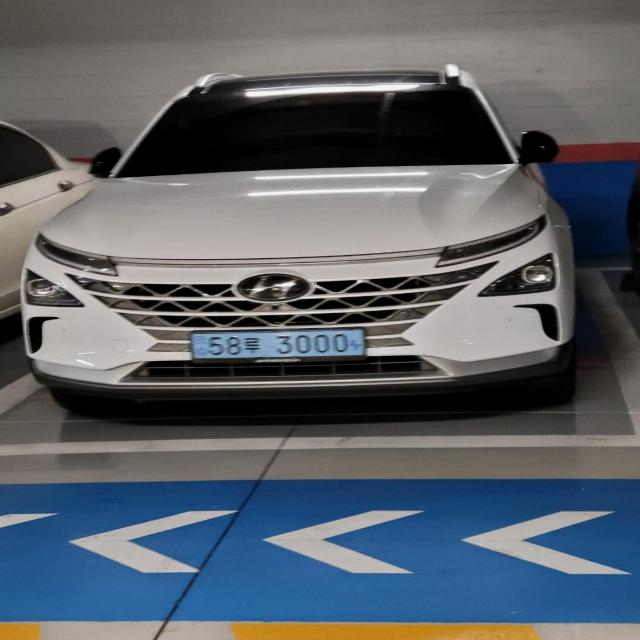EV_plate: (191, 325, 375, 368)
car: (23, 63, 587, 432)
